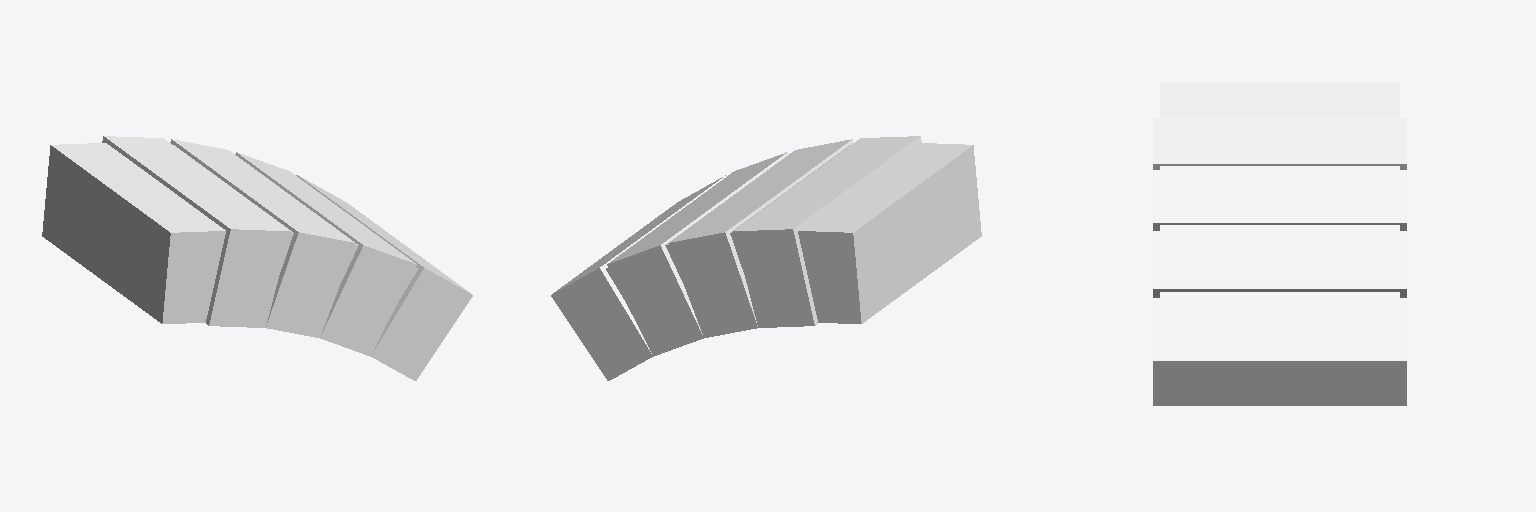
The model's file is generic_segmental_arch_3.obj.
3 renders of one model, left to right at view 1: azimuth 30°, elevation 25°; view 2: azimuth 150°, elevation 25°; view 3: azimuth 270°, elevation 25°, orthographic.
Parts seen in each view (by area): view 1: tube, tube.000; view 2: tube, tube.000; view 3: tube, tube.000.
Part boxes in pixels (x1,y1,x2,y2): tube: (102, 136, 472, 380); tube.000: (42, 143, 417, 323); tube: (551, 136, 921, 380); tube.000: (606, 143, 981, 323); tube: (1153, 118, 1406, 405); tube.000: (1160, 82, 1399, 297).
Size of the model in its own units: 1.58 by 1.01 by 1.13.